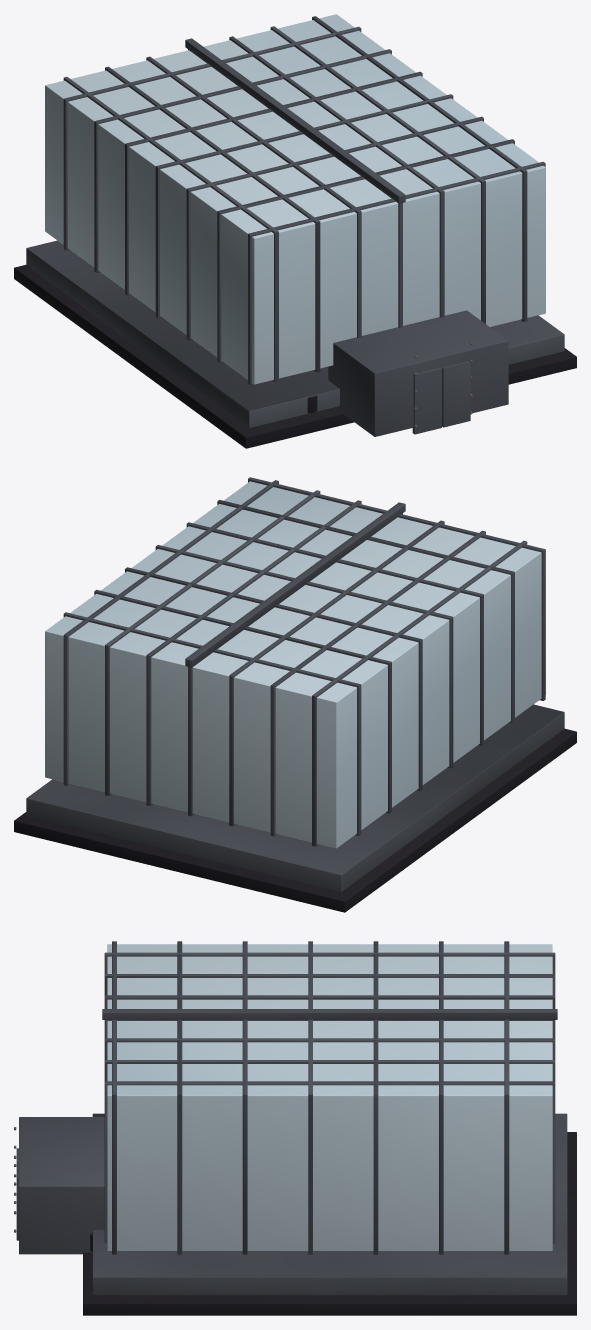
Rendered from building_blackroot_conservatory.fbx.
3 renders of one model, top to bottom at view 1: azimuth 30°, elevation 25°; view 2: azimuth 150°, elevation 25°; view 3: azimuth 270°, elevation 25°, orthographic. The views are drawn at different scales.
Parts seen in each view (by area): view 1: building_blackroot_conservatory; view 2: building_blackroot_conservatory; view 3: building_blackroot_conservatory.
Part boxes in pixels (<box>): building_blackroot_conservatory: <box>14,14,576,448</box>; building_blackroot_conservatory: <box>14,477,576,912</box>; building_blackroot_conservatory: <box>14,941,576,1315</box>.
Size of the model in its own units: 8.4 by 5 by 11.62.
